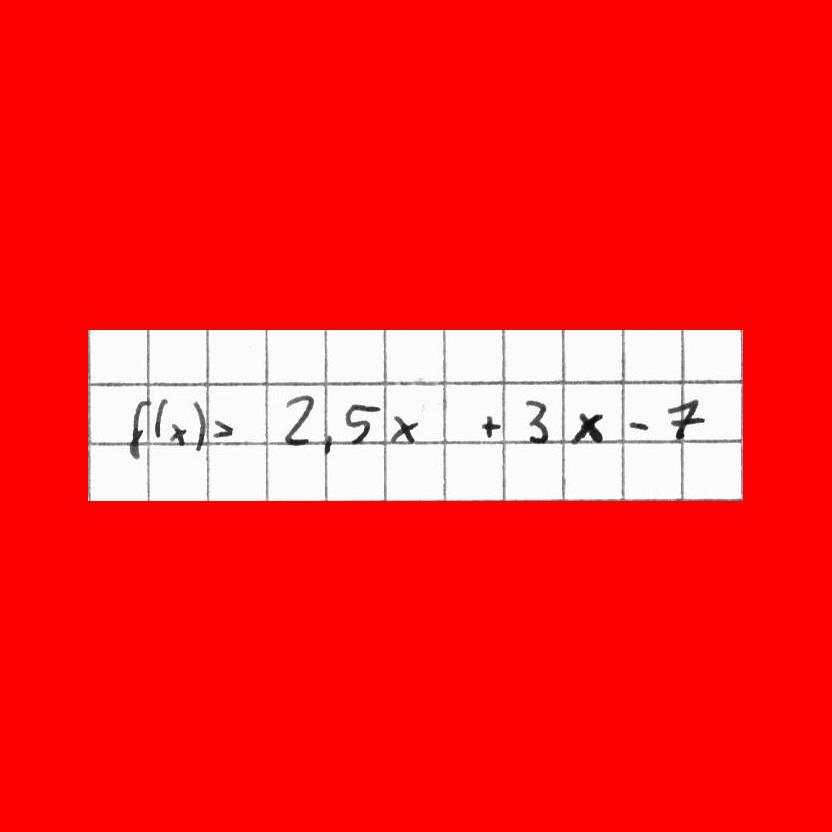Char: (279, 389, 314, 448), (664, 397, 705, 445), (342, 400, 380, 446), (127, 397, 149, 461), (569, 407, 604, 446), (522, 396, 549, 445), (388, 410, 420, 445), (190, 400, 208, 452), (150, 395, 166, 445), (479, 410, 505, 440), (167, 419, 188, 447), (211, 417, 234, 441), (319, 428, 335, 458), (626, 416, 650, 436)
